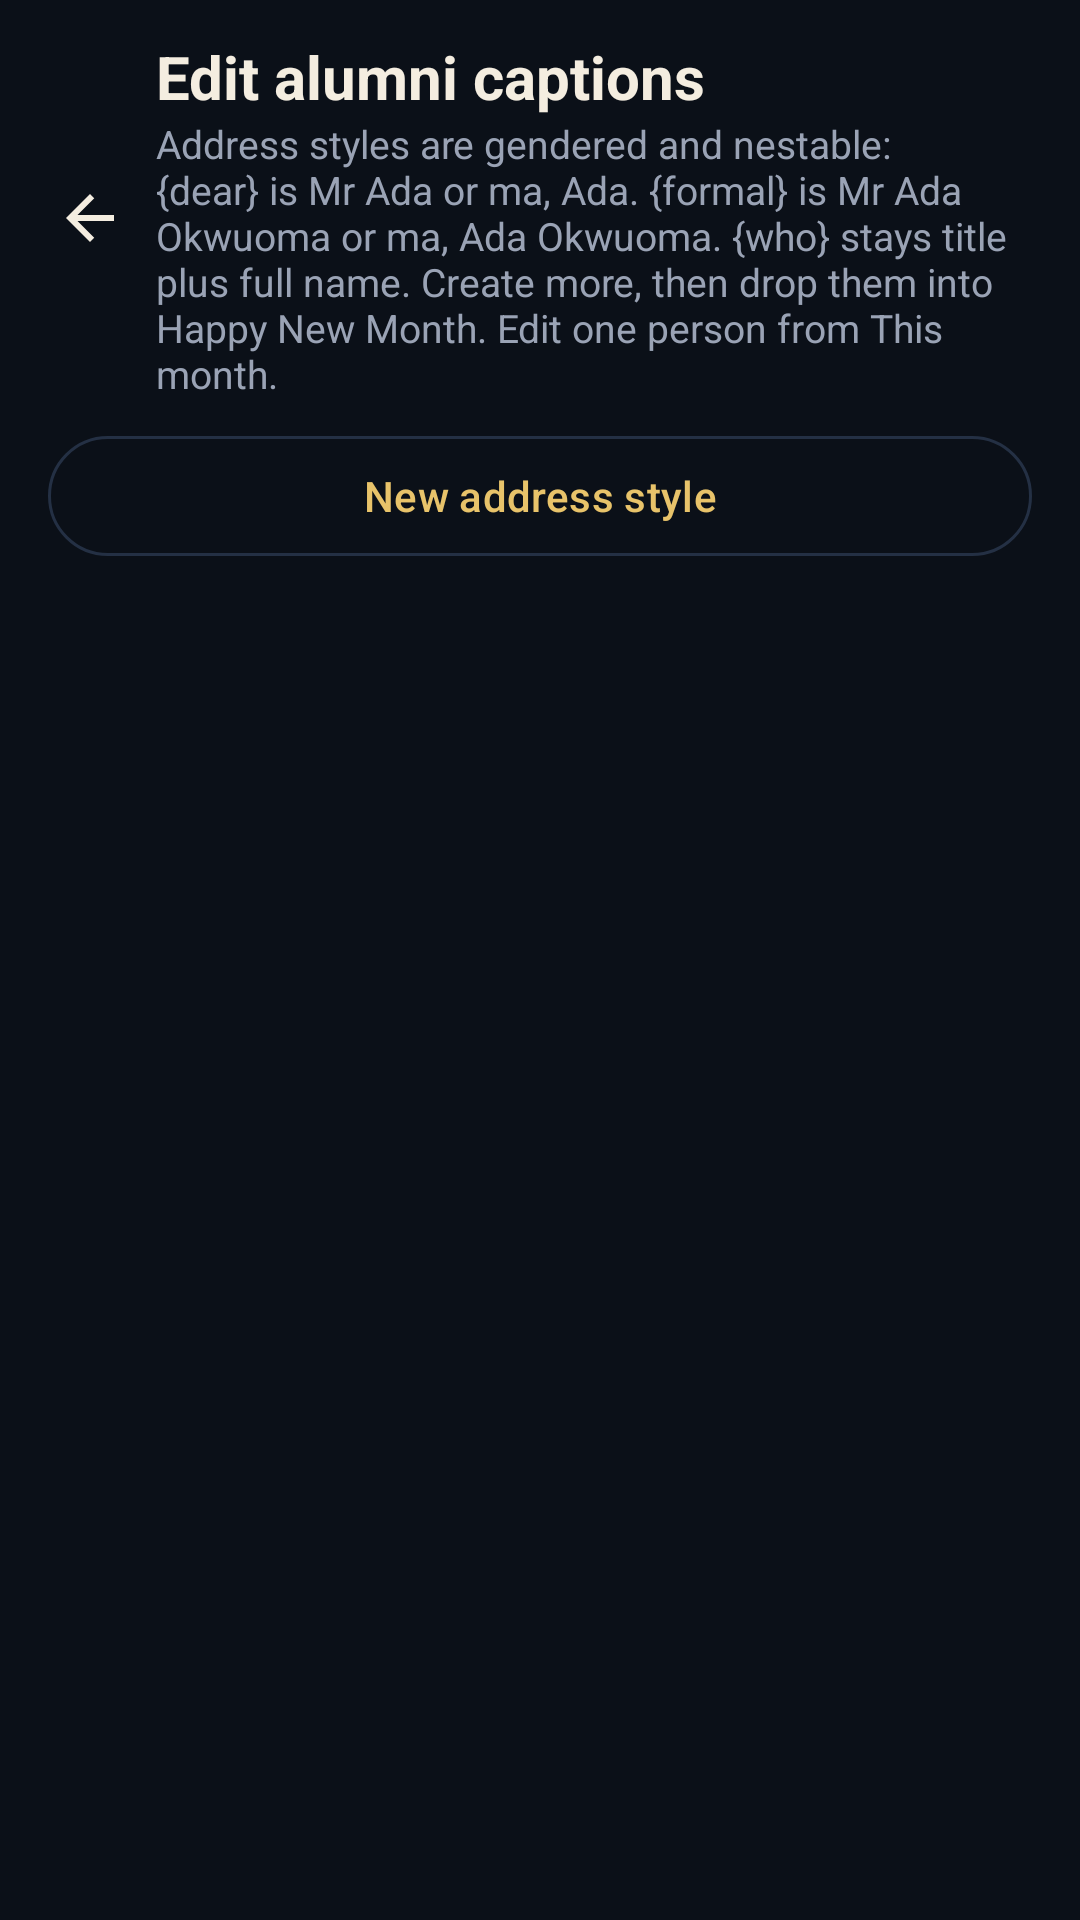

Locate icon controls on the screen. Image size 1080*1920, boxes as region(x1, y1, x2, y2).
Back: region(66, 194, 114, 242)
